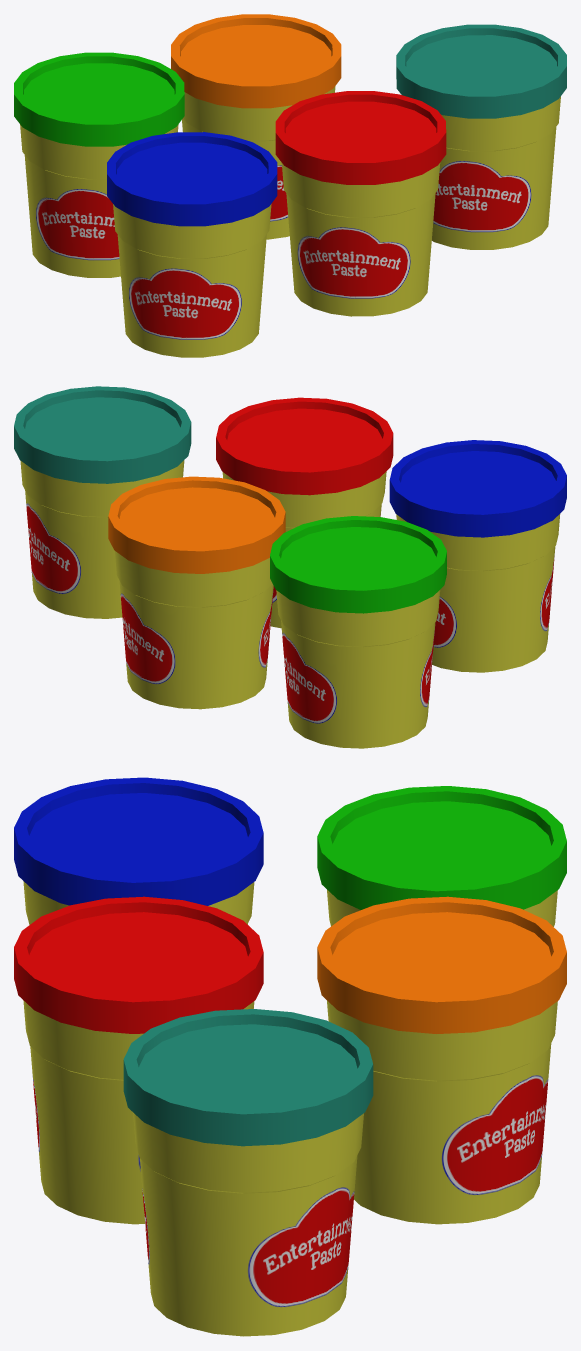
Rendered from PlayDoh.fbx.
The picture shows the model from 3 angles, top to bottom: view 1: azimuth 30°, elevation 25°; view 2: azimuth 150°, elevation 25°; view 3: azimuth 270°, elevation 25°; orthographic projection. The views are drawn at different scales.
Visible parts, largest first — view 1: Lid1, Lid, Lid4, Lid3, Lid2; view 2: Lid3, Lid2, Lid, Lid4, Lid1; view 3: Lid4, Lid2, Lid1, Lid, Lid3.
Boxes of the visible parts, <box> form: Lid1: <box>275,91,446,316</box>; Lid: <box>107,132,277,357</box>; Lid4: <box>396,24,566,249</box>; Lid3: <box>14,52,184,277</box>; Lid2: <box>171,14,341,239</box>; Lid3: <box>270,516,446,748</box>; Lid2: <box>108,476,285,709</box>; Lid: <box>389,440,566,672</box>; Lid4: <box>14,386,191,618</box>; Lid1: <box>216,397,393,628</box>; Lid4: <box>123,1009,373,1336</box>; Lid2: <box>317,896,566,1224</box>; Lid1: <box>14,896,263,1224</box>; Lid: <box>14,777,263,924</box>; Lid3: <box>317,786,566,926</box>.
Bounding box in the file's own units: 12.74 × 4.17 × 8.84.
Materials: 5 (5 with a texture image).
